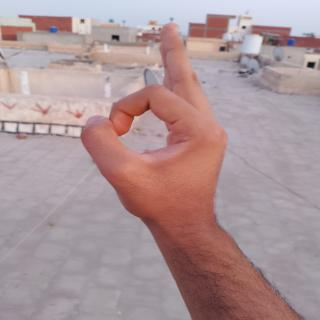Space: (72, 18, 231, 217)
